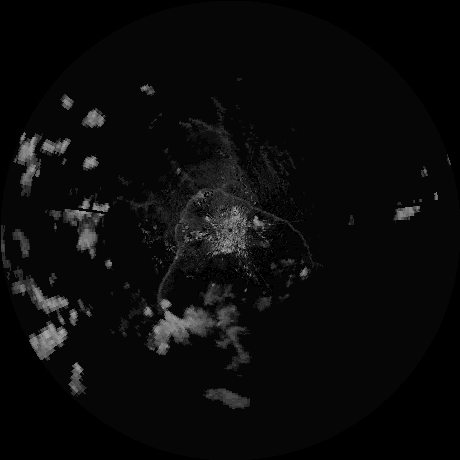frontgust: (204, 188, 315, 263), (157, 191, 202, 300)
